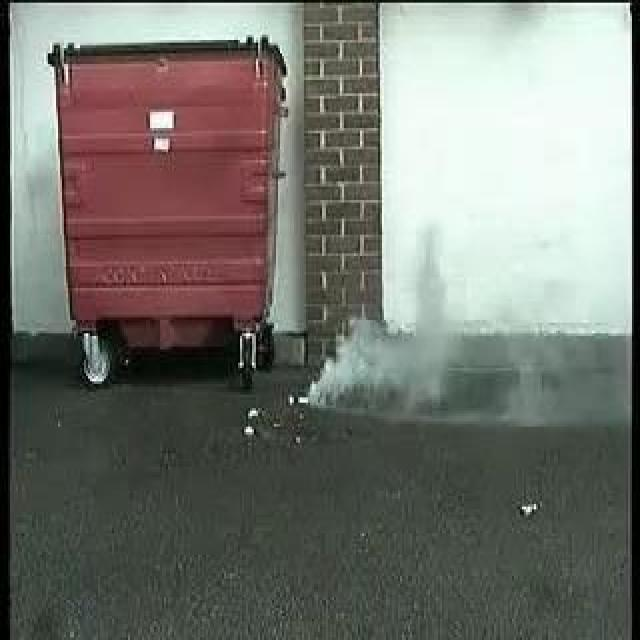Smoke: (303, 317, 531, 424)
